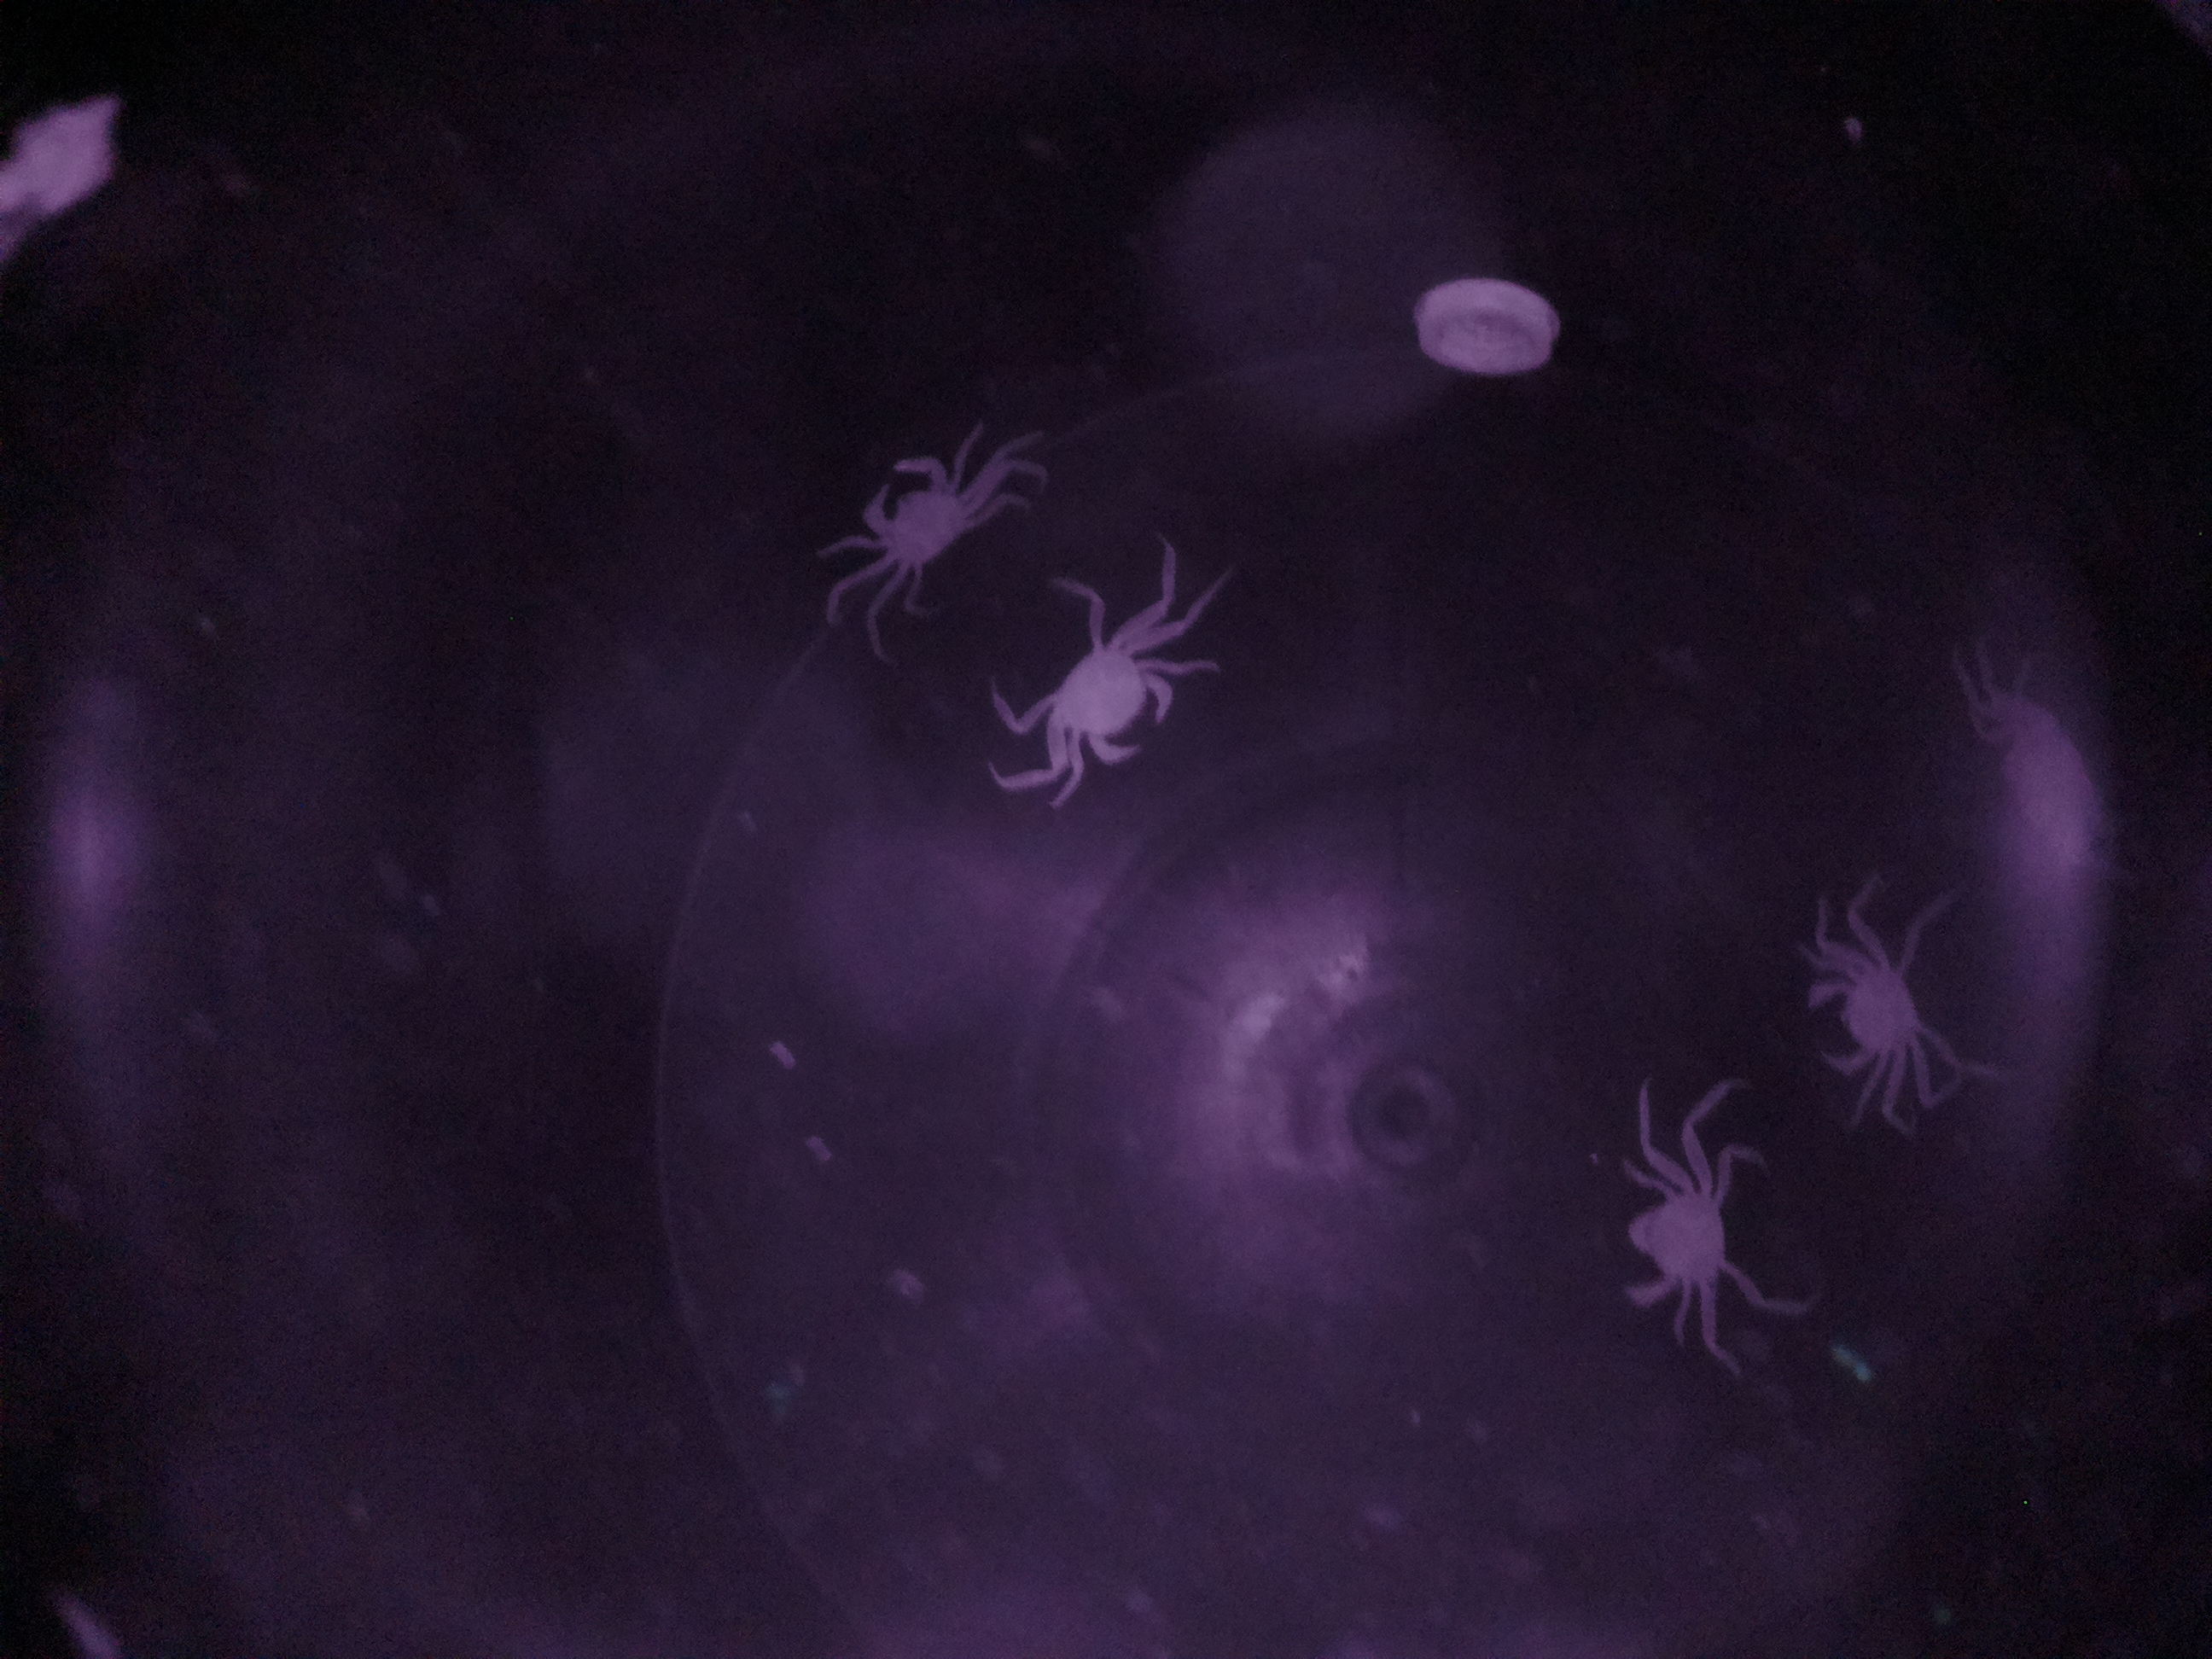Crab: (1604, 1133, 1787, 1321), (1784, 908, 1961, 1096), (1015, 608, 1186, 788), (827, 416, 993, 587)
